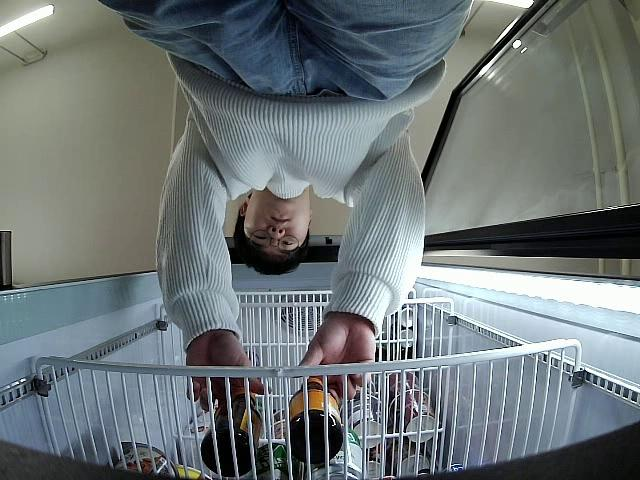00_hand: (293, 324, 375, 397), (185, 344, 267, 411)
17_vita500: (201, 390, 261, 477), (289, 375, 343, 466)
